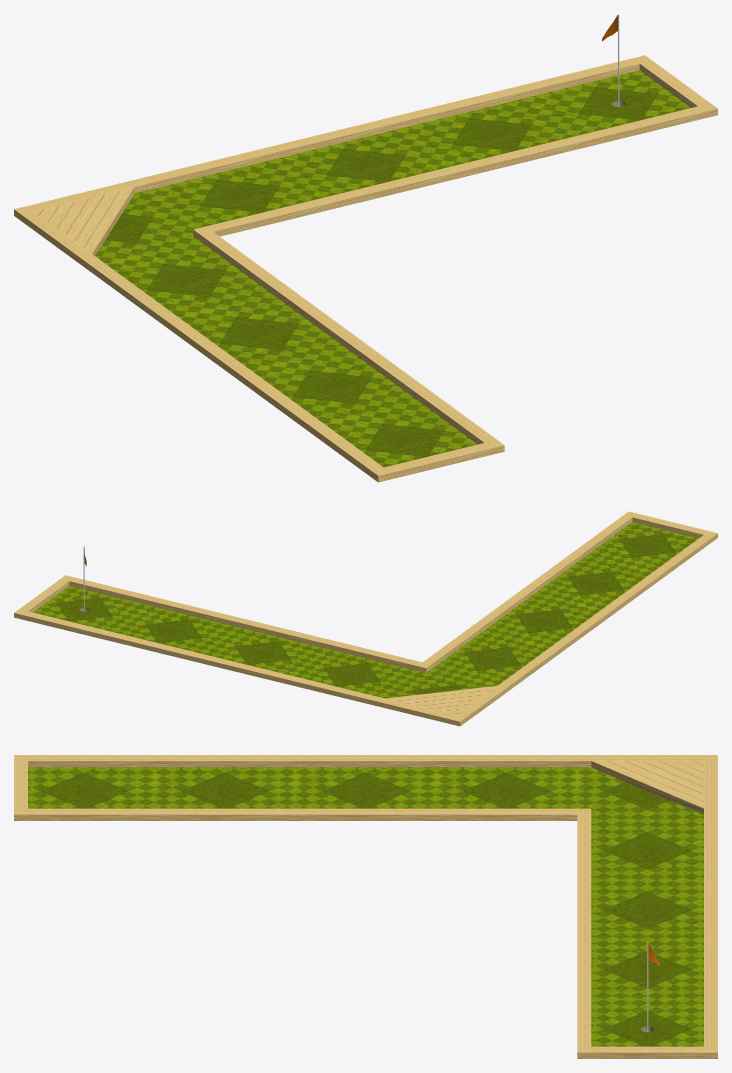
File: course1_hole2.fbx
3 views of the same model, one above another, from view 1: azimuth 30°, elevation 25°; view 2: azimuth 150°, elevation 25°; view 3: azimuth 270°, elevation 25° (orthographic). The views are drawn at different scales.
Visible parts, largest first — view 1: course1_hole2_ground, course1_hole2_walls; view 2: course1_hole2_ground, course1_hole2_walls; view 3: course1_hole2_ground, course1_hole2_walls.
Boxes of the visible parts, x1,y1,x2,y2 form: course1_hole2_ground: (95,70,690,467); course1_hole2_walls: (14,55,717,482); course1_hole2_ground: (33,522,698,698); course1_hole2_walls: (14,511,717,726); course1_hole2_ground: (28,767,703,1046); course1_hole2_walls: (14,755,717,1058).
Bounding box in the file's own units: 15 × 2.25 × 15.
